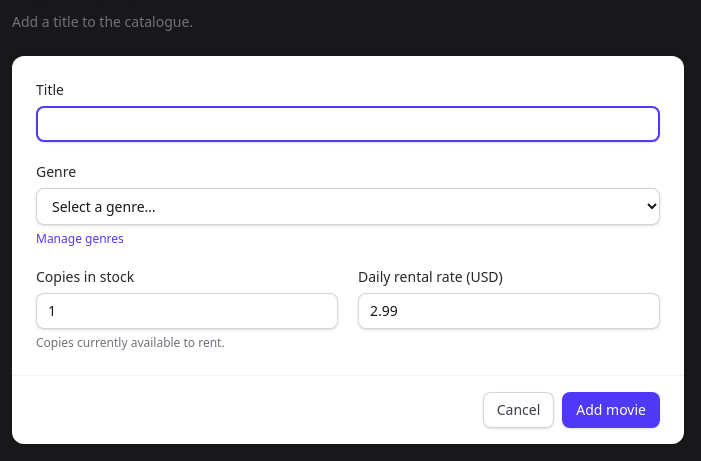
Scenario: MovieFormPage › requires a genre and a valid stock count
This screenshot has width=701, height=461.
Step 1. Type "Heat" into the field labelled "Title" → (348, 124), box [36, 106, 660, 142]
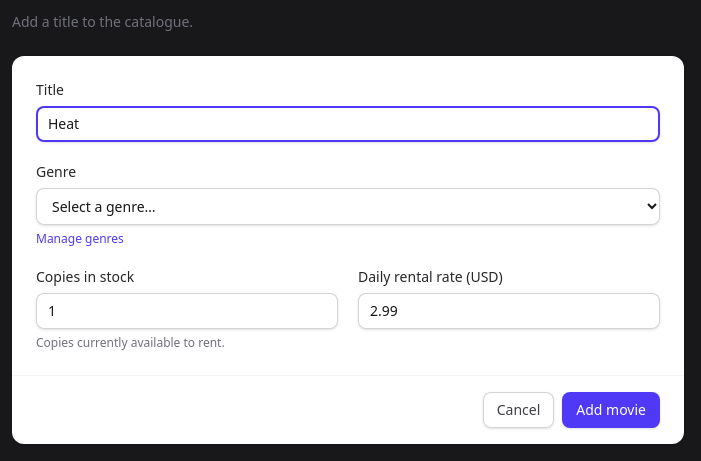
Step 2. Clear the number field labelled "Copies in stock" → (187, 311), box [36, 293, 338, 329]
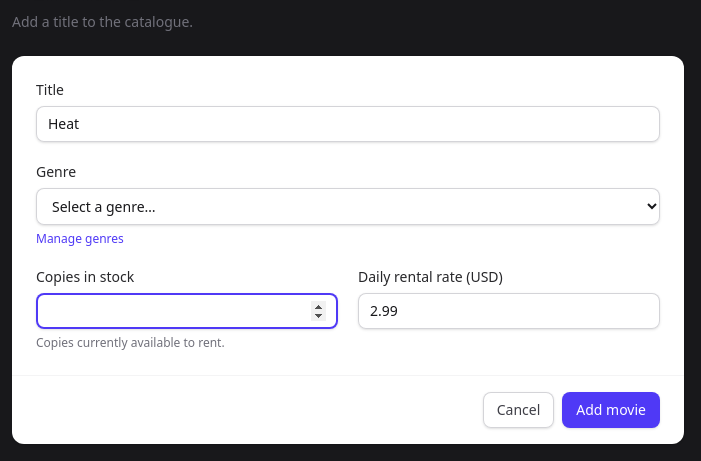
Step 3. Click the button "Add movie" → (611, 410), box [562, 392, 660, 428]
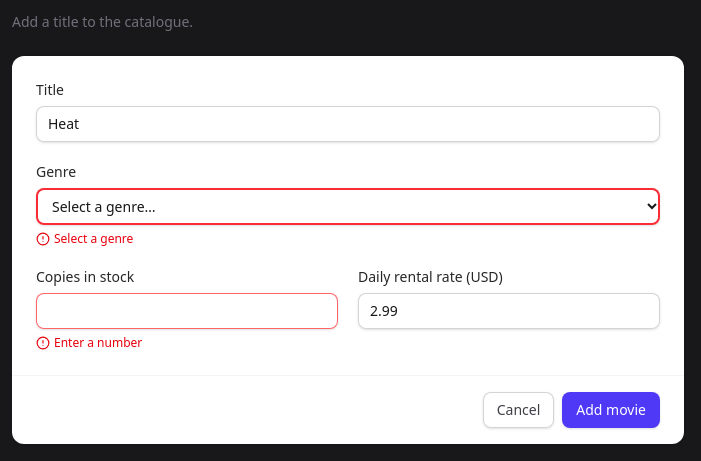
Now the text "Select a genre" is shown, box [36, 230, 133, 247]
Now the text "Enter a number" is shown, box [36, 334, 142, 351]
